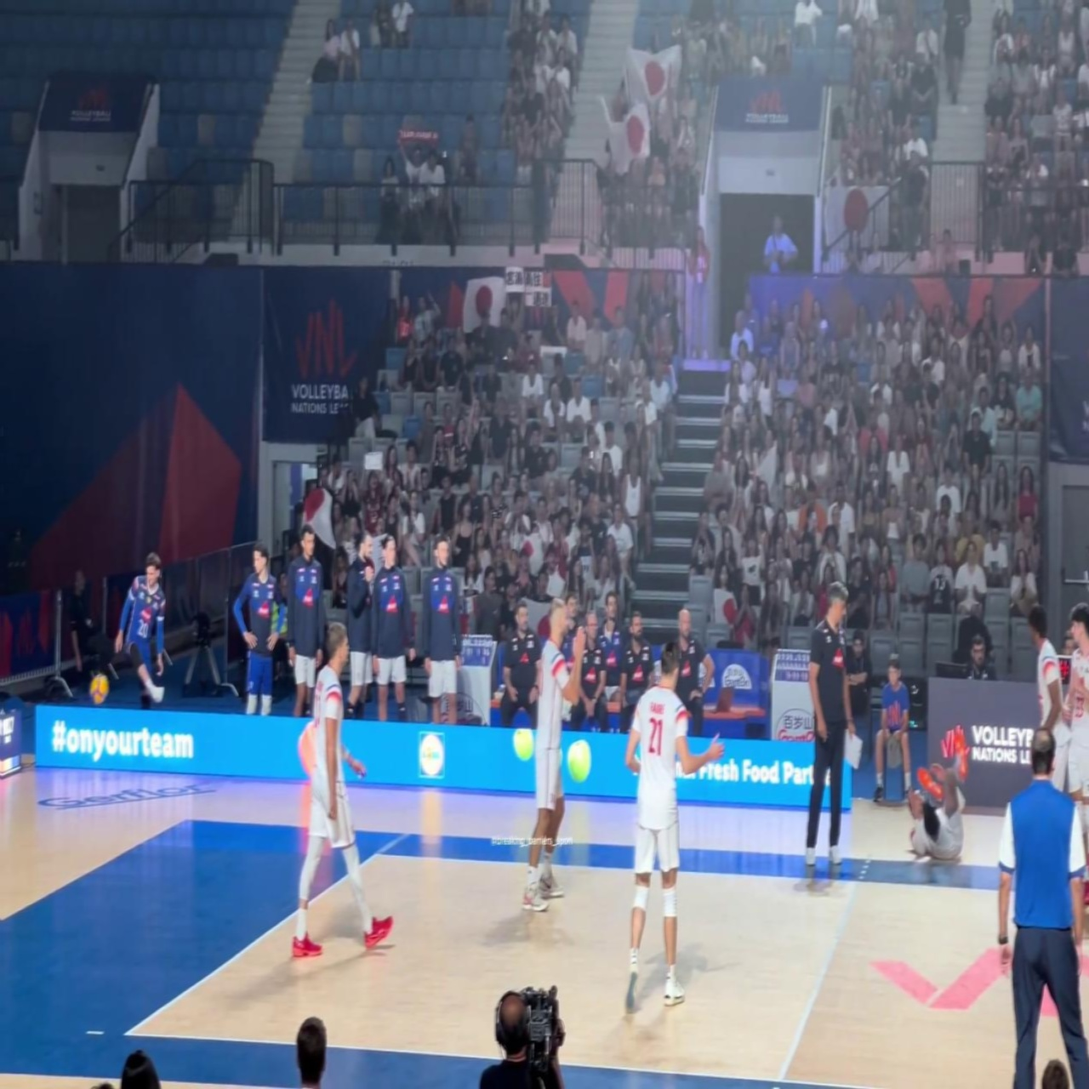ball: (90, 674, 107, 705)
